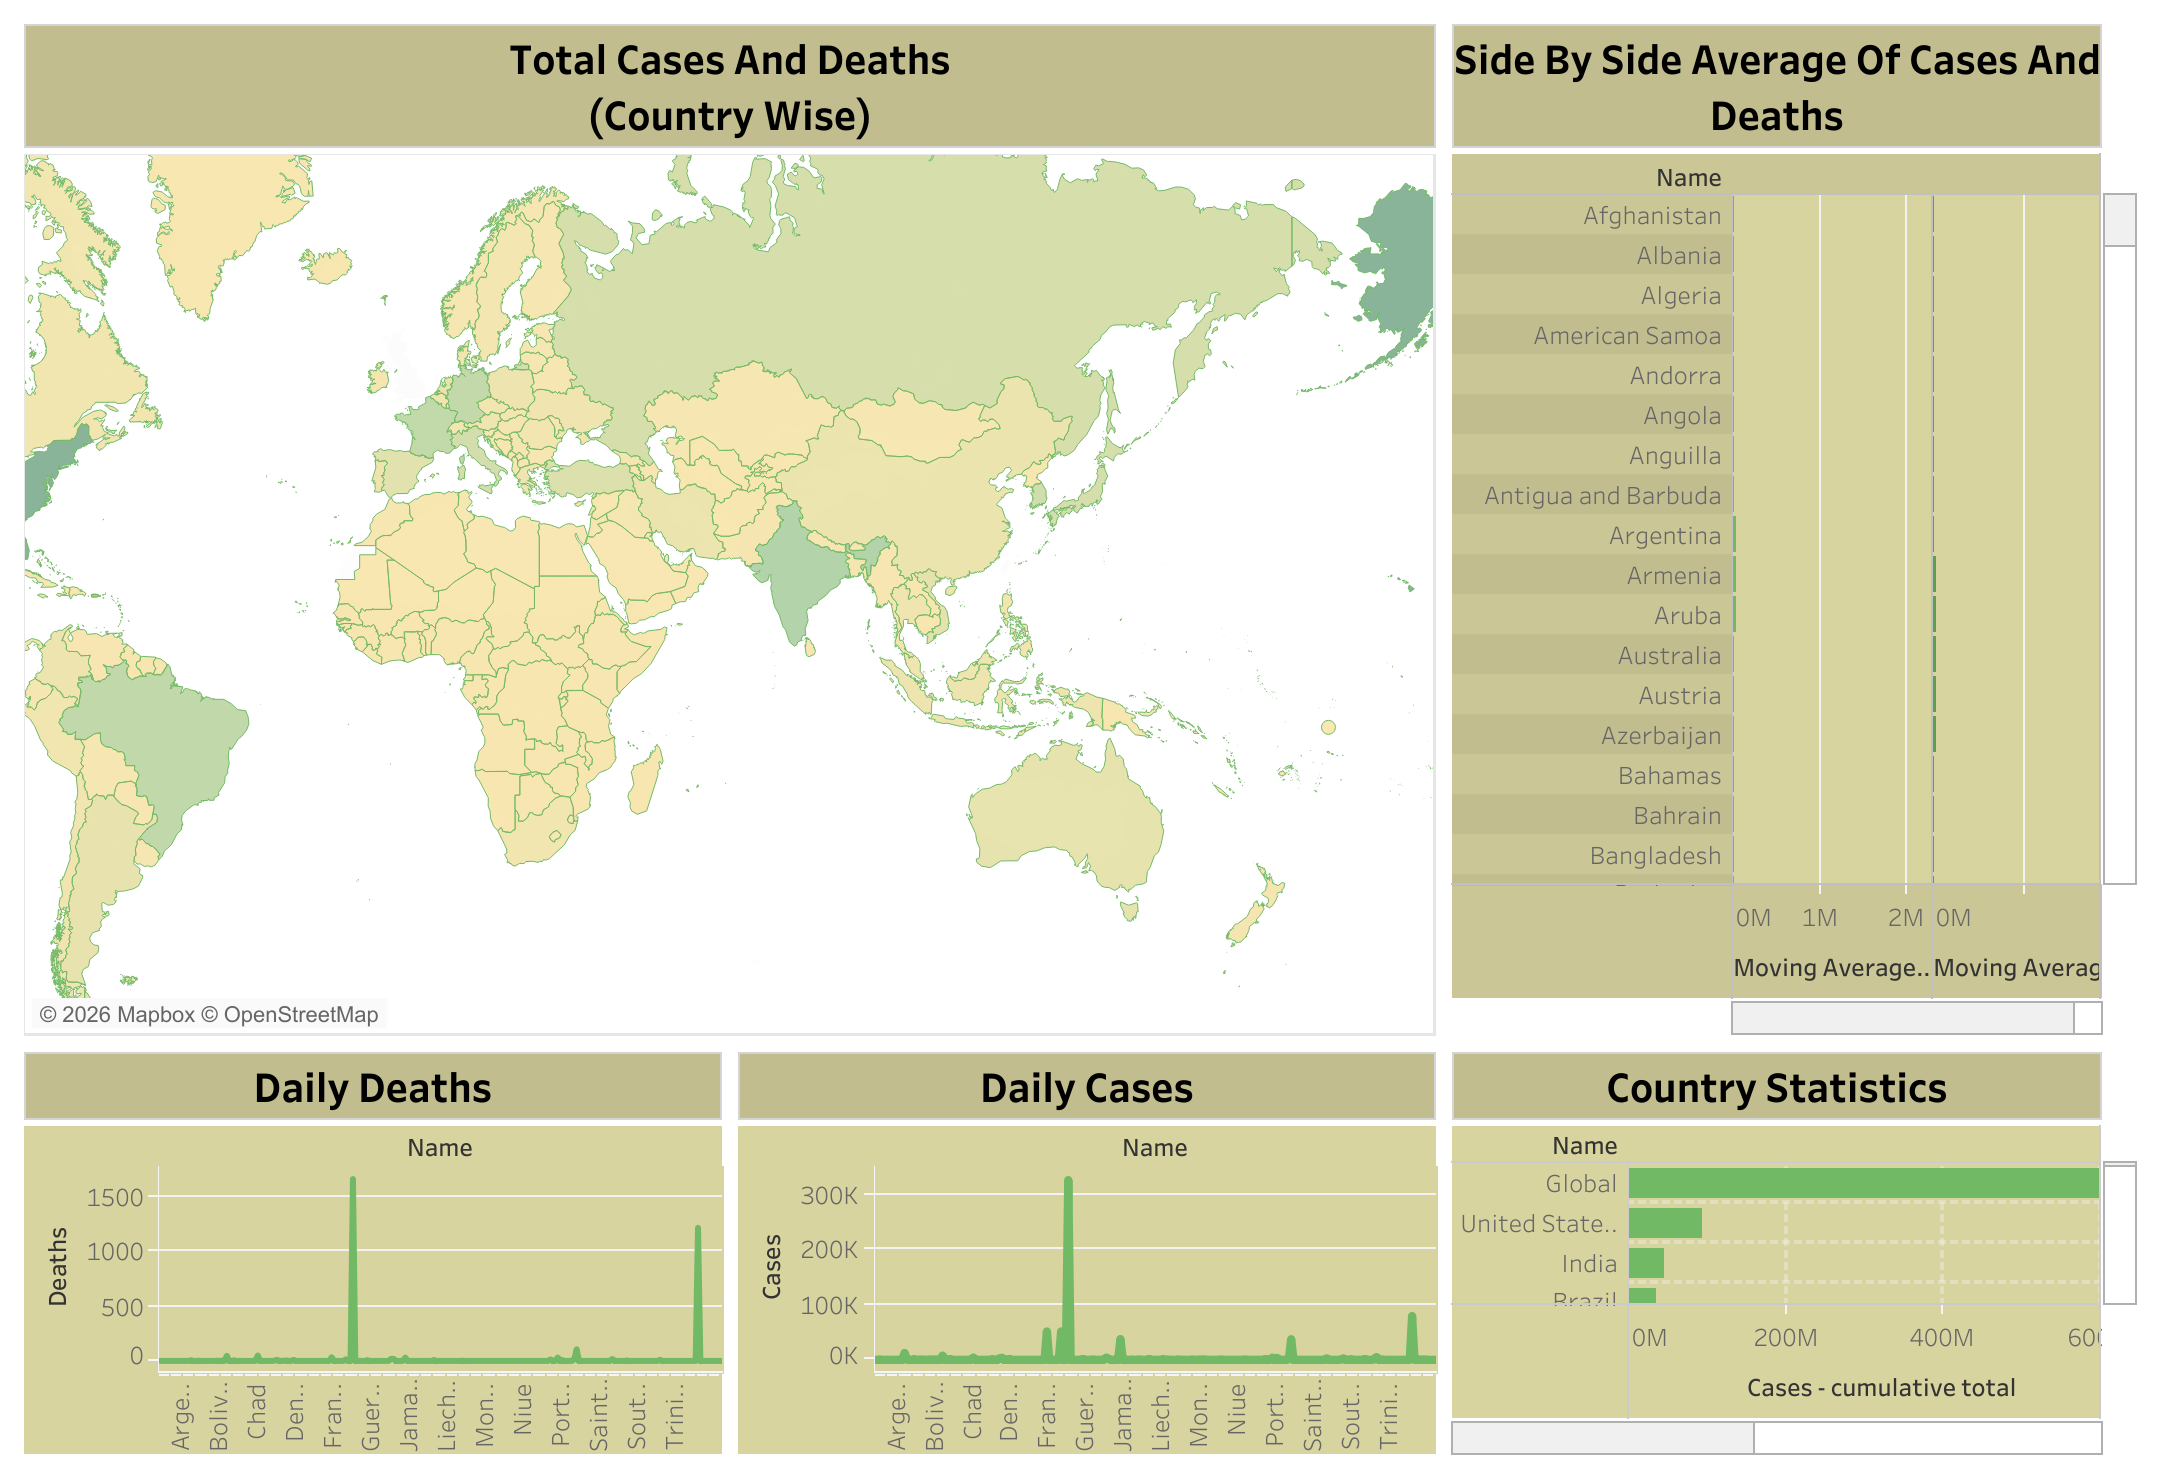

Layout of this report page (visuals, bound fields, positions):
{"tool":"tableau","page":{"name":"Dashboard 1","canvas":[1000,1000],"units":"permille","ordinal":0},"visuals":[{"type":"worksheet","title":"Sheet 5","mark":"Multipolygon","box":[6.2,11.8,661.9,693.7]},{"type":"worksheet","title":"Sheet 4","mark":"Bar","rows":["Name"],"cols":["Deaths - cumulative total","Cases - cumulative total"],"box":[668.2,11.8,325.6,505.9]},{"type":"worksheet","title":"Sheet 3","mark":"Automatic","box":[668.2,517.8,325.6,470.4]},{"type":"worksheet","title":"Sheet 2","mark":"Line","rows":["Deaths - newly reported in last 24 hours"],"cols":["Name"],"box":[6.2,705.5,330.9,282.6]},{"type":"worksheet","title":"Sheet 1","mark":"Line","rows":["Cases - newly reported in last 24 hours"],"cols":["Name"],"box":[337.2,705.5,331,282.6]}]}

Visuals, with their boxes on the dashboard's canvas, which has no fixed pixel size, in thousandths of its width and height (x1, y1, x2, y2). These are canvas units, not pixel positions in the 2160x1478 screenshot, which may show the page scaled, cropped or inside an application window:
"Sheet 5" worksheet (Multipolygon marks): (left=6, top=12, right=668, bottom=706)
"Sheet 4" worksheet (Bar marks): (left=668, top=12, right=994, bottom=518)
"Sheet 3" worksheet: (left=668, top=518, right=994, bottom=988)
"Sheet 2" worksheet (Line marks): (left=6, top=706, right=337, bottom=988)
"Sheet 1" worksheet (Line marks): (left=337, top=706, right=668, bottom=988)
